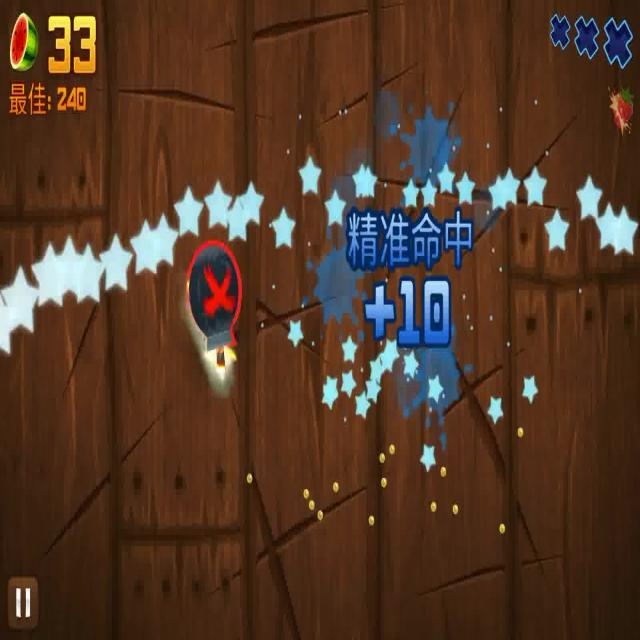bomb: (186, 238, 246, 374)
